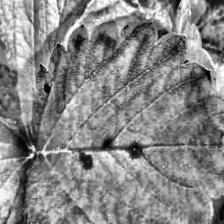Leaf Spot: (22, 19, 223, 224), (0, 0, 110, 148), (0, 113, 77, 224), (187, 0, 224, 84)
